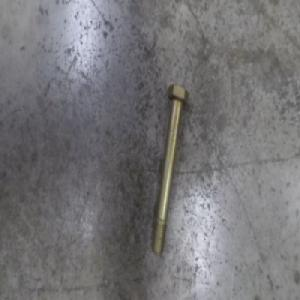Bolt: (150, 81, 189, 257)
